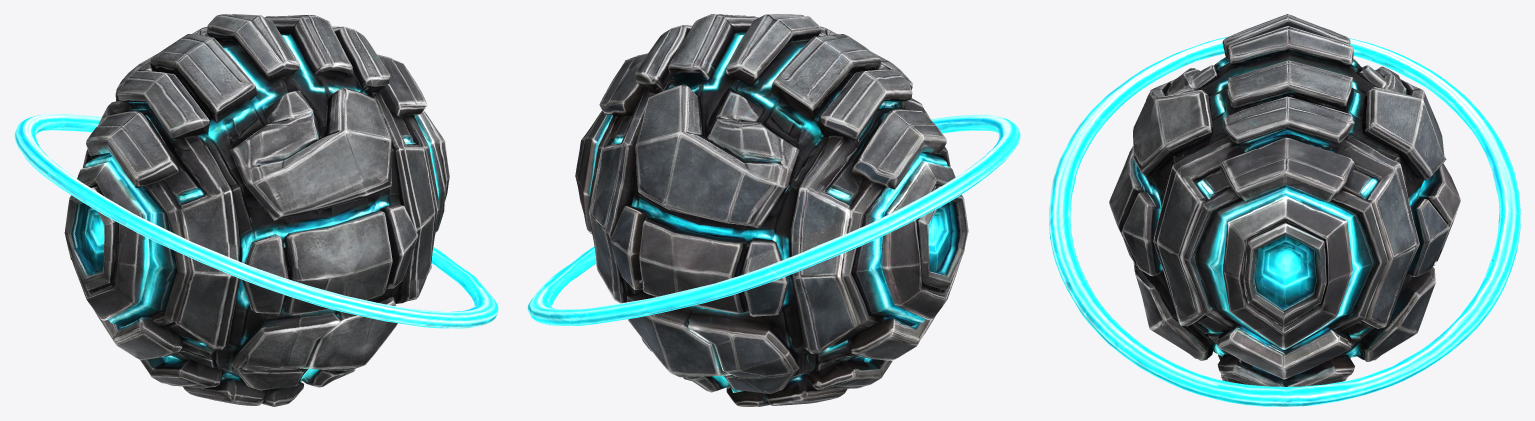
File: guardian_core.glb
3 views of the same model, side by side, from view 1: azimuth 30°, elevation 25°; view 2: azimuth 150°, elevation 25°; view 3: azimuth 270°, elevation 25° (orthographic). The views are drawn at different scales.
Visible parts, largest first — view 1: mesh_node; view 2: mesh_node; view 3: mesh_node.
Part boxes in pixels (x1,y1,x2,y2): mesh_node: [14, 14, 498, 406]; mesh_node: [527, 14, 1020, 406]; mesh_node: [1049, 14, 1520, 406].
Size of the model in its own units: 1.8 by 1.6 by 1.9.
1 material, 1 textured.
